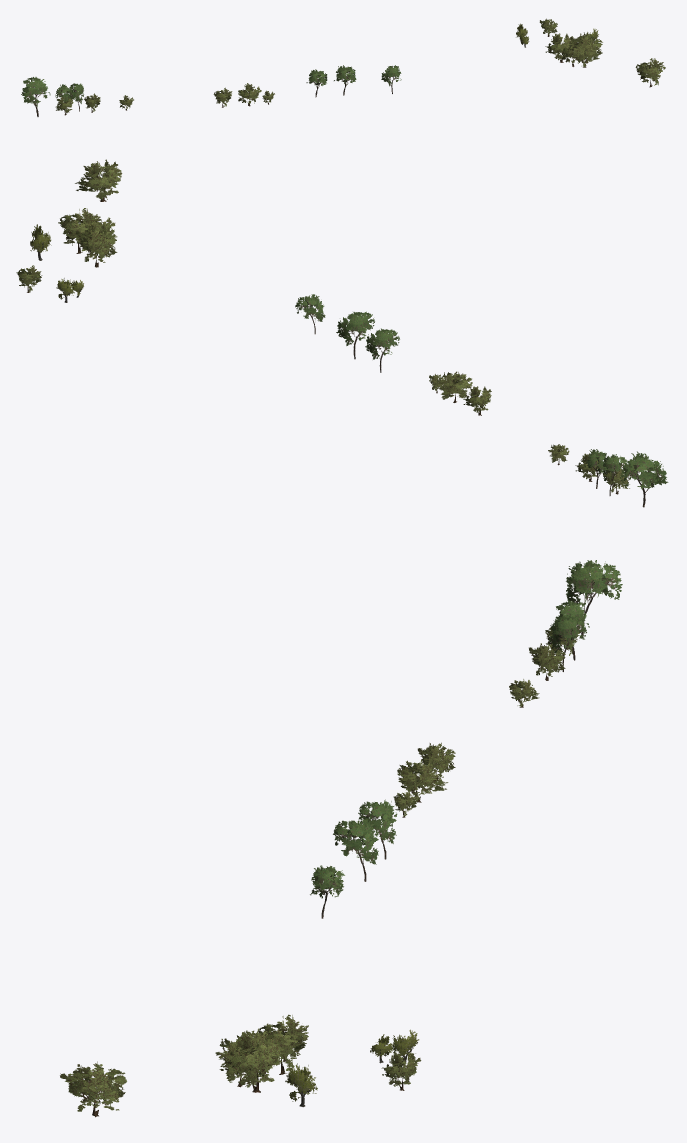
3 views of the same model, one above another, from view 1: azimuth 30°, elevation 25°; view 2: azimuth 150°, elevation 25°; view 3: azimuth 270°, elevation 25° (orthographic). The views are drawn at different scales.
Visible parts, largest first — view 1: jacaranda_tree street foliage, tree_small_02 street foliage, island_tree_01 street foliage; view 2: jacaranda_tree street foliage, tree_small_02 street foliage, island_tree_01 street foliage; view 3: jacaranda_tree street foliage, tree_small_02 street foliage, island_tree_01 street foliage.
Part boxes in pixels (x1,y1,x2,y2): jacaranda_tree street foliage: (55, 18, 665, 112); tree_small_02 street foliage: (21, 65, 401, 107); island_tree_01 street foliage: (516, 23, 598, 44); jacaranda_tree street foliage: (16, 159, 629, 492); tree_small_02 street foliage: (295, 294, 668, 489); island_tree_01 street foliage: (30, 224, 83, 299); jacaranda_tree street foliage: (60, 627, 579, 1111); tree_small_02 street foliage: (310, 560, 622, 898); island_tree_01 street foliage: (285, 1029, 419, 1101).
Bounding box in the file's own units: 321 × 21.35 × 152.
6 materials, 6 textured.
